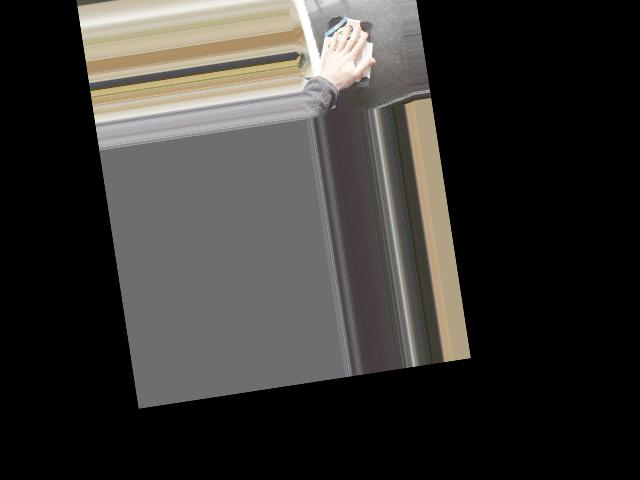cheese: (307, 9, 384, 94)
